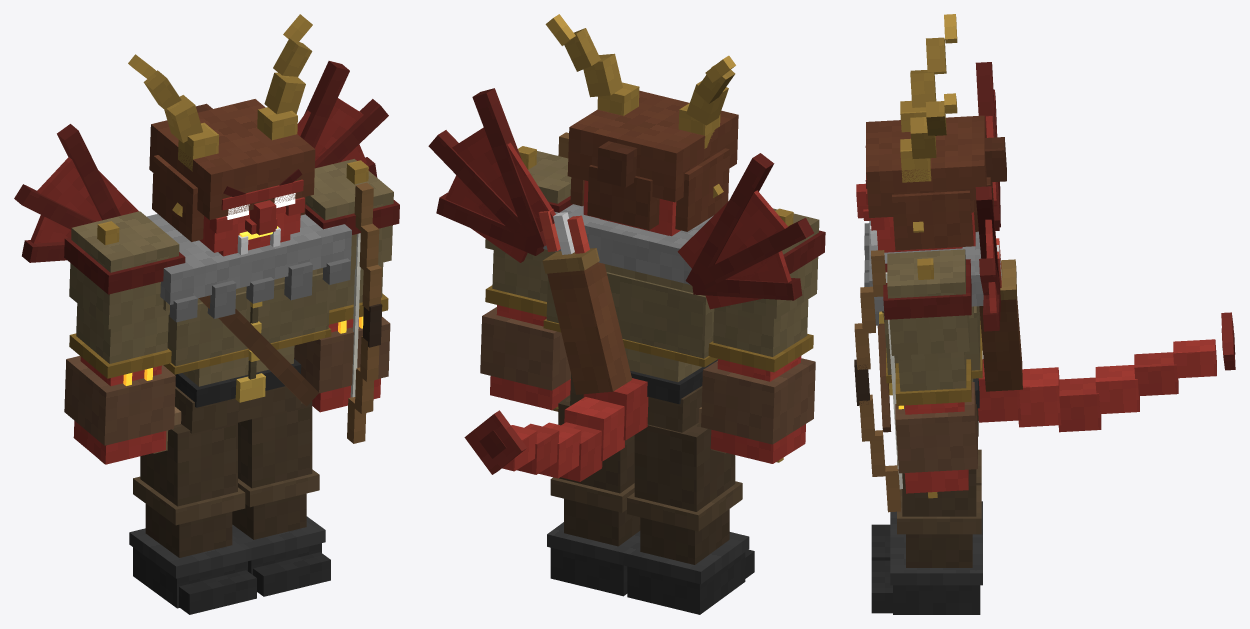
The model's file is demon_chasseur.glb.
3 views of the same model, side by side, from view 1: azimuth 30°, elevation 25°; view 2: azimuth 150°, elevation 25°; view 3: azimuth 270°, elevation 25° (orthographic). The views are drawn at different scales.
Visible parts, largest first — view 1: Torso, Head, ArmR, LegR, LegL, ArmL, HandL; view 2: Torso, Head, LegR, ArmR, ArmL, LegL; view 3: Torso, ArmL, Head, LegL, HandL, LegR.
Boxes of the visible parts, bbox=[...] form: Torso: bbox=[14, 61, 388, 453]; Head: bbox=[128, 14, 315, 256]; ArmR: bbox=[64, 211, 185, 464]; LegR: bbox=[129, 422, 256, 614]; LegL: bbox=[232, 401, 330, 596]; ArmL: bbox=[294, 159, 399, 412]; HandL: bbox=[347, 182, 382, 443]; Torso: bbox=[428, 88, 813, 481]; Head: bbox=[545, 14, 738, 236]; LegR: bbox=[623, 423, 754, 614]; ArmR: bbox=[701, 208, 825, 463]; ArmL: bbox=[480, 146, 572, 410]; LegL: bbox=[547, 395, 640, 596]; Torso: bbox=[864, 62, 1235, 436]; ArmL: bbox=[883, 249, 977, 498]; Head: bbox=[856, 14, 1006, 252]; LegL: bbox=[871, 469, 982, 614]; HandL: bbox=[854, 250, 902, 512]; LegR: bbox=[871, 449, 982, 560].
Bounding box in the file's own units: 1.58 × 2.2 × 1.44.
Materials: 48 (48 with a texture image).
